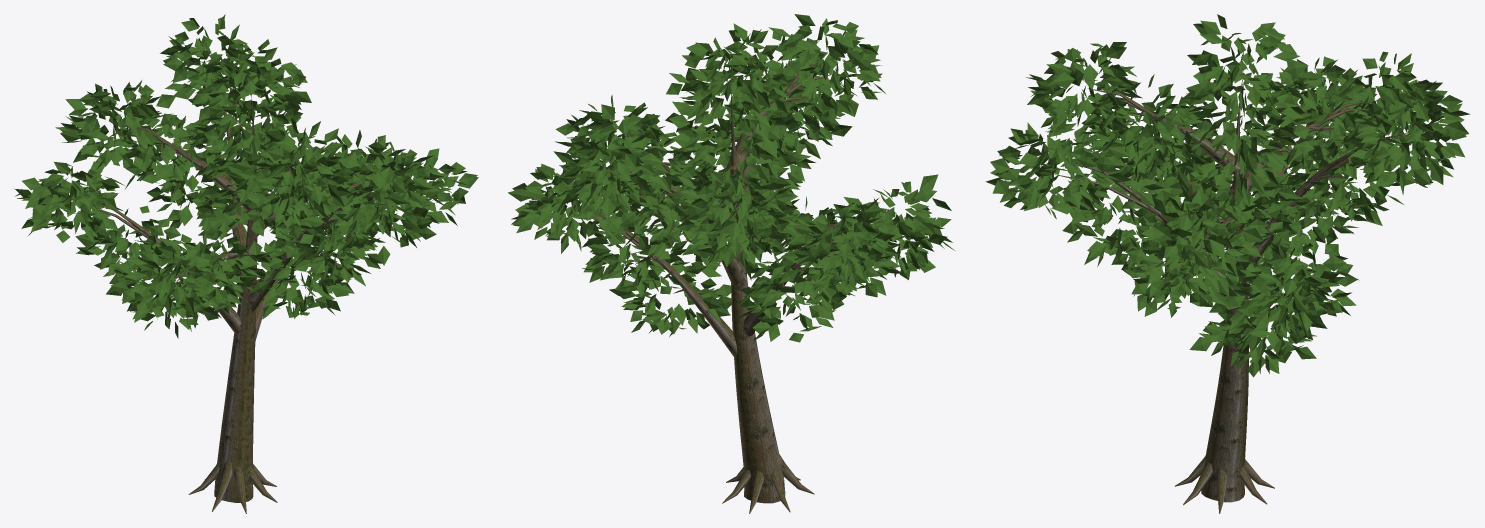
File: veyra_swamp_crown_01.dae
The picture shows the model from 3 angles, left to right: view 1: azimuth 30°, elevation 25°; view 2: azimuth 150°, elevation 25°; view 3: azimuth 270°, elevation 25°; orthographic projection. The views are drawn at different scales.
Visible parts, largest first — view 1: g1-node, g0-node; view 2: g1-node, g0-node; view 3: g1-node, g0-node.
Part boxes in pixels (x1=…): g1-node: x1=14, y1=14, x2=478, y2=338; g0-node: x1=98, y1=78, x2=415, y2=513; g1-node: x1=508, y1=14, x2=954, y2=342; g0-node: x1=568, y1=59, x2=897, y2=513; g1-node: x1=985, y1=14, x2=1469, y2=377; g0-node: x1=1050, y1=71, x2=1409, y2=513.
Size of the model in its own units: 2017 by 1987 by 2167.
